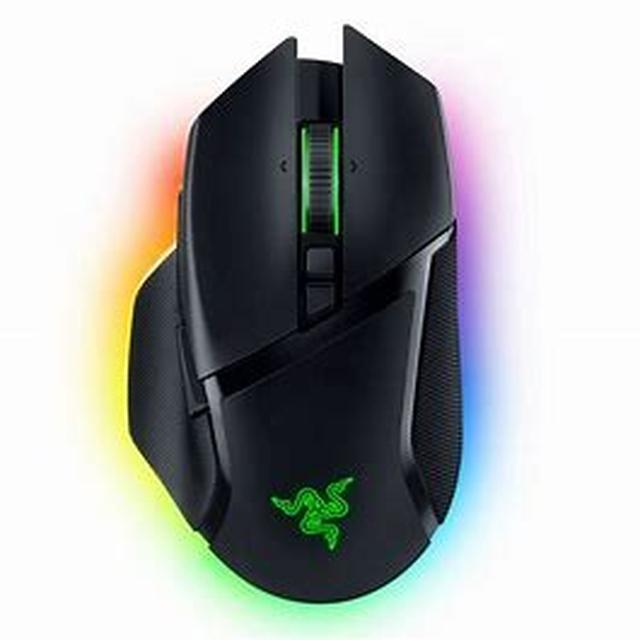mouse: (119, 23, 513, 596)
